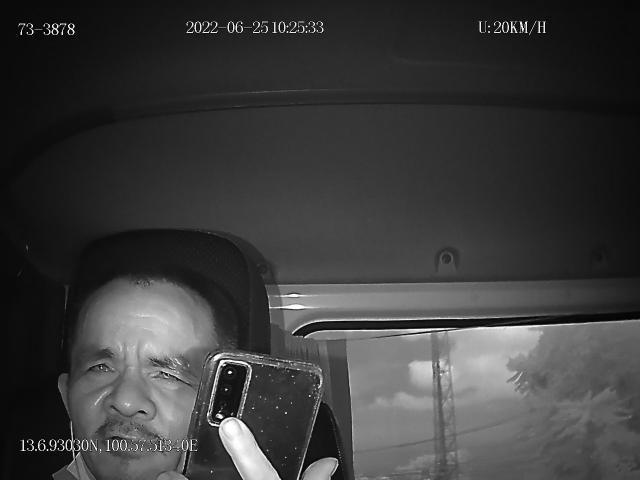PhoneUse: (182, 350, 322, 480)
SafeDriving: (142, 356, 195, 392), (77, 350, 122, 382)
